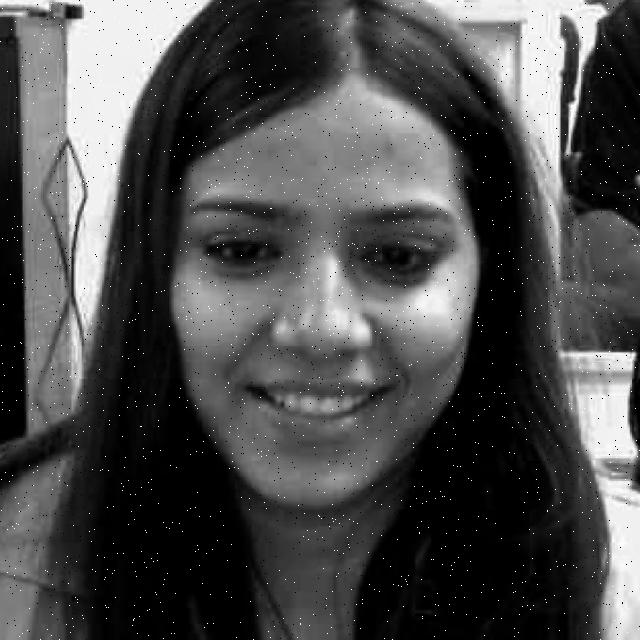puffy_eyes: (354, 261, 433, 290), (191, 258, 285, 278)
